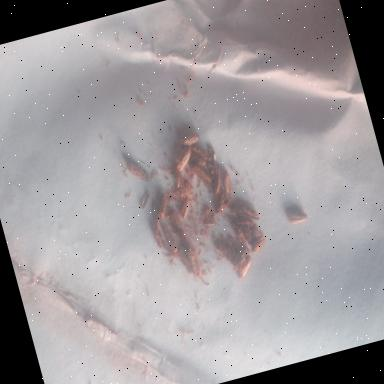pbw: (126, 157, 152, 187), (190, 158, 214, 190), (172, 145, 196, 173), (225, 210, 246, 242), (188, 244, 206, 280), (237, 197, 260, 223), (162, 222, 180, 254), (234, 255, 256, 281), (190, 141, 212, 164), (208, 168, 226, 196), (150, 219, 166, 250), (212, 192, 234, 214), (204, 146, 220, 176), (237, 206, 256, 230), (176, 195, 194, 219), (154, 194, 171, 219), (184, 244, 198, 274), (248, 234, 268, 254), (172, 167, 186, 195), (177, 132, 201, 148), (286, 208, 308, 225), (152, 204, 166, 230), (170, 208, 184, 234), (230, 248, 249, 267), (189, 148, 207, 168), (240, 218, 254, 243), (220, 170, 234, 194), (216, 242, 236, 258)
